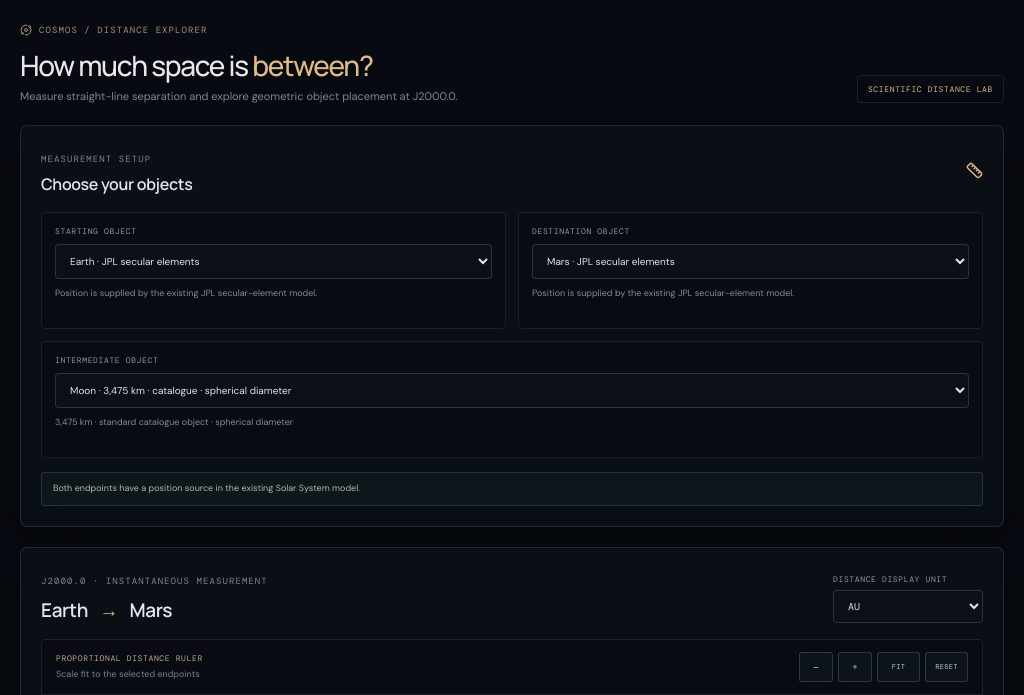
Test: Distance Explorer integration › updates every journey display unit without changing the underlying segment or aggregate values
This screenshot has width=1024, height=695.
Select "km" in the dropdown labelled "DISTANCE DISPLAY UNIT": point(908, 606) [833, 590, 983, 622]
(page scrolled)
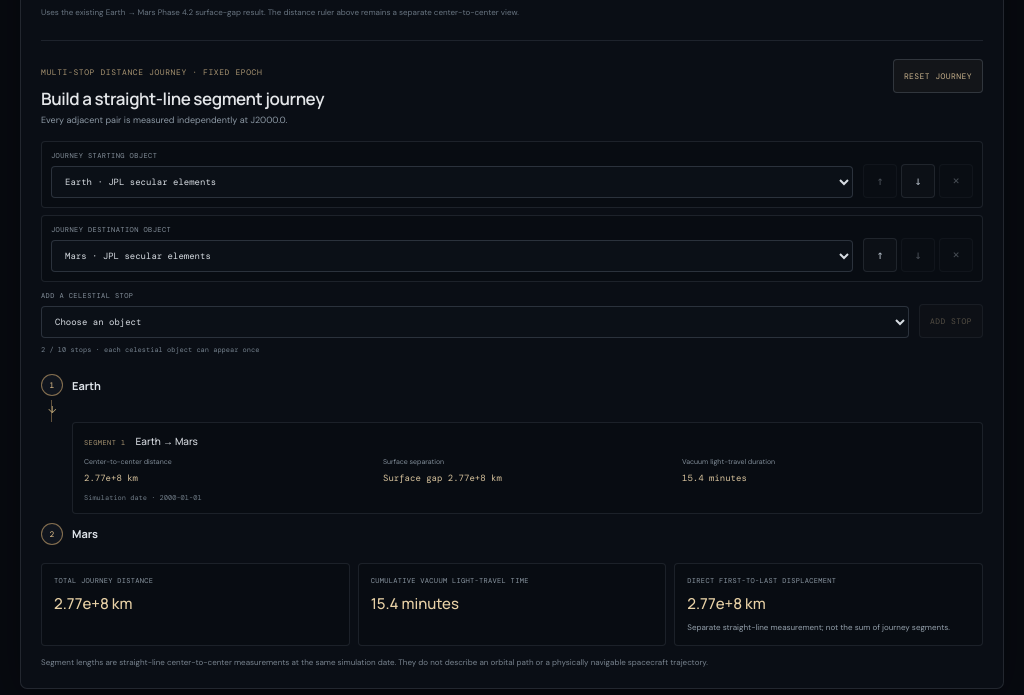
Expected: the text "2.77e+8 km" below "Surface separation" is shown, [84, 472, 138, 484]
